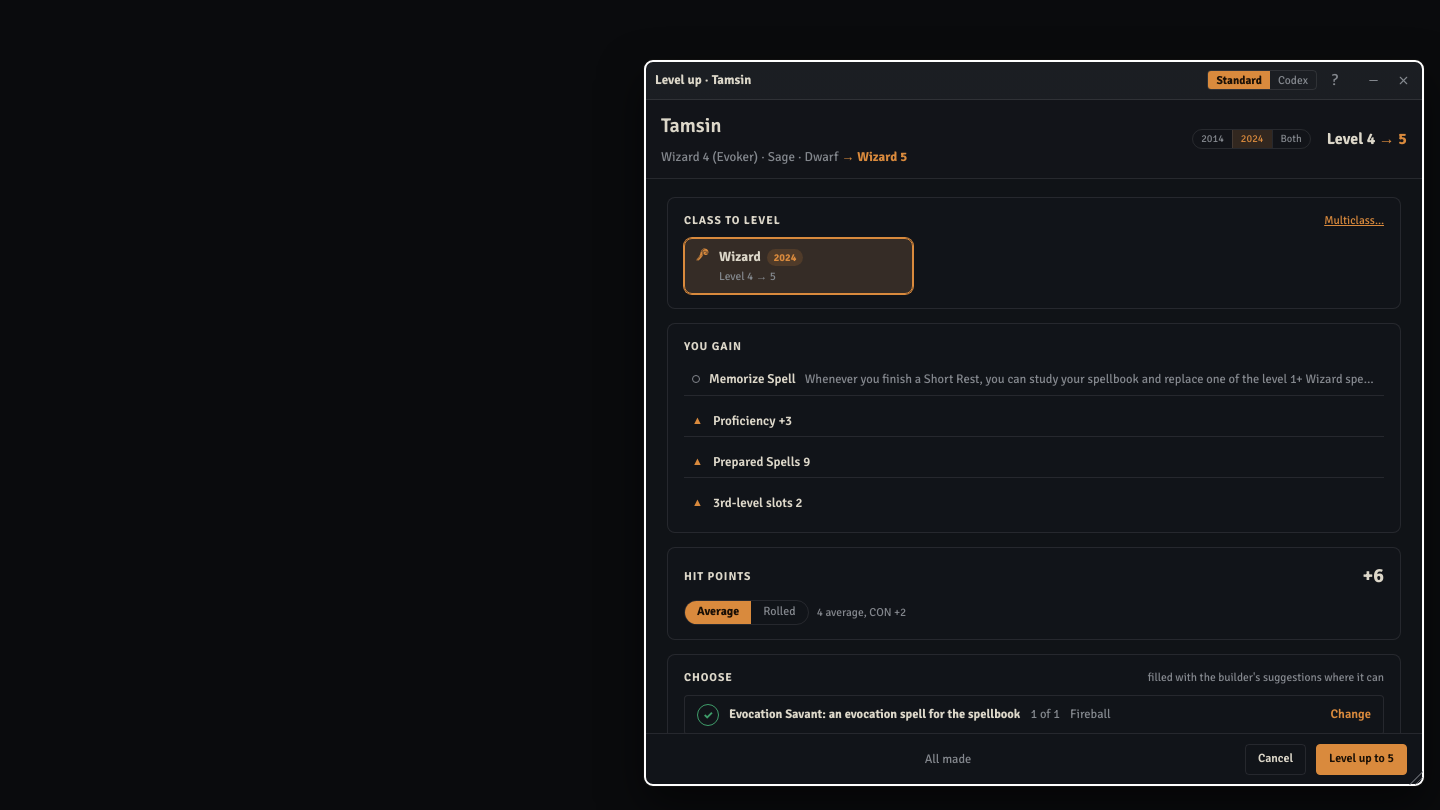
Test: Level up › has the edition filter: a 2014 filter offers the 2014 classes to multiclass into
The image size is (1440, 810).
Click the button "Multiclass…". click: (1354, 220)
box: [1324,212,1384,228]
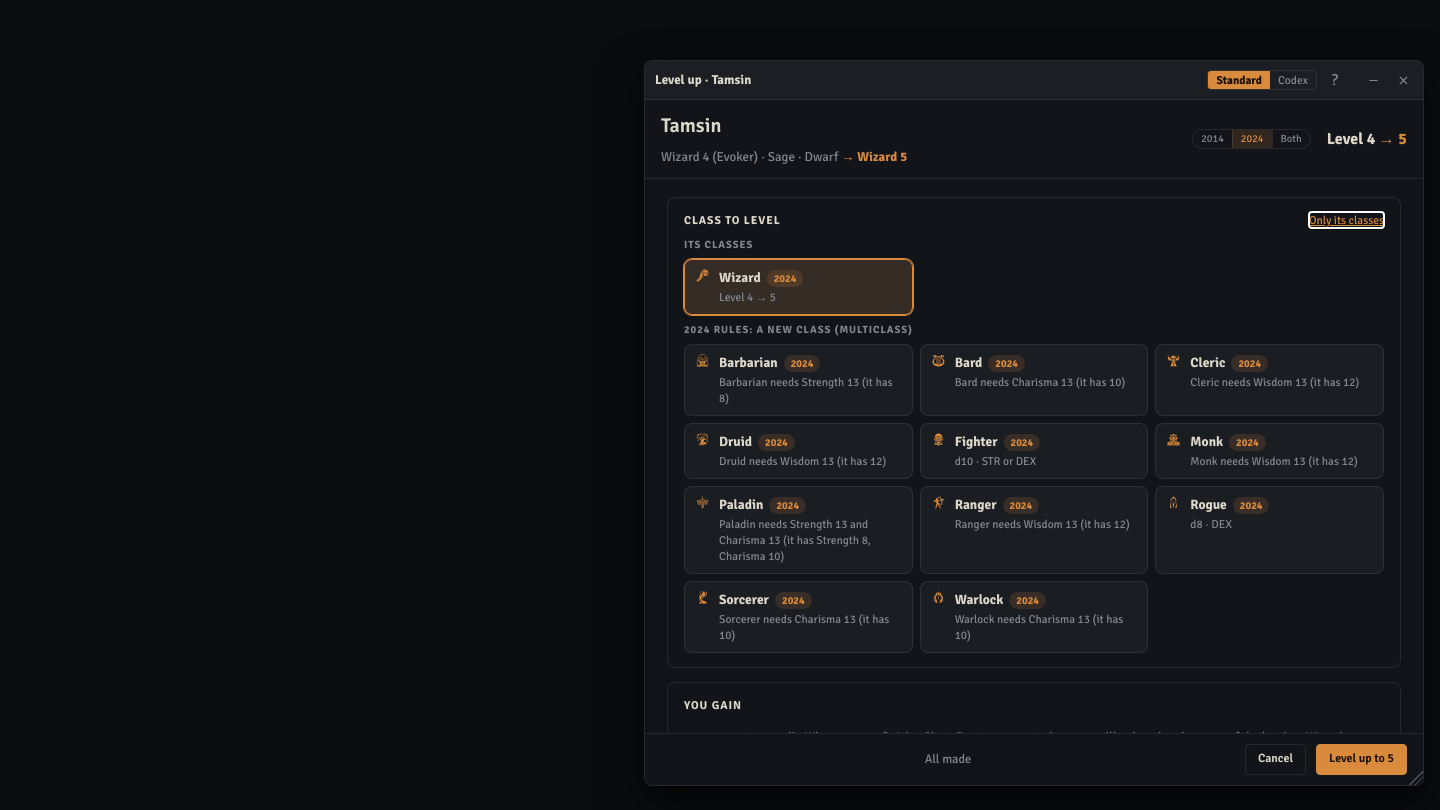
Result: the radio button with aria-label "Fighter (2024)" is shown at [920,423,1148,479]
Click the button "2014". click: (1212, 139)
box: [1193,130,1232,148]
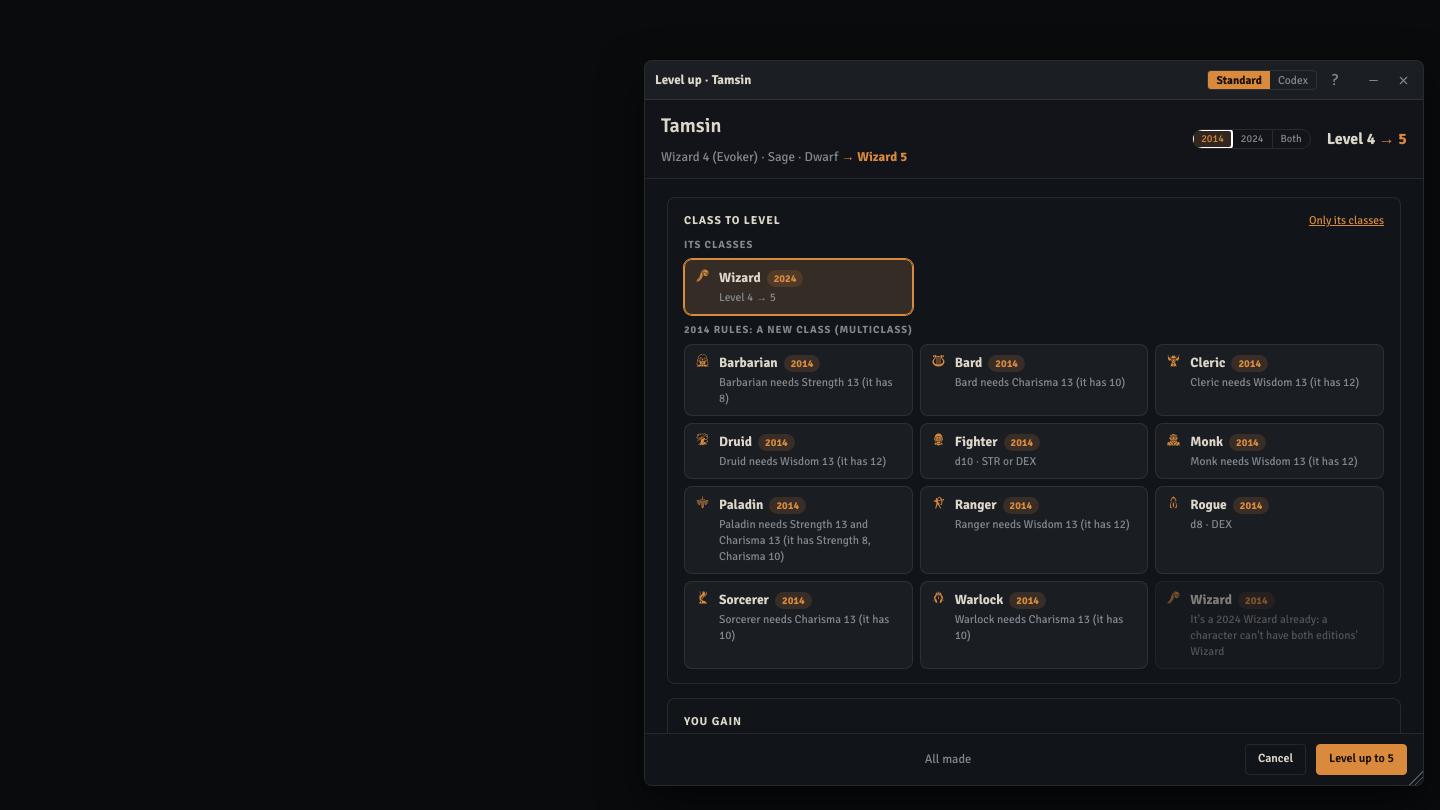
Result: the radio button labelled "Fighter (2024)" is gone
Result: the radio button with aria-label "Fighter (2014)" is shown at [920,423,1148,479]
